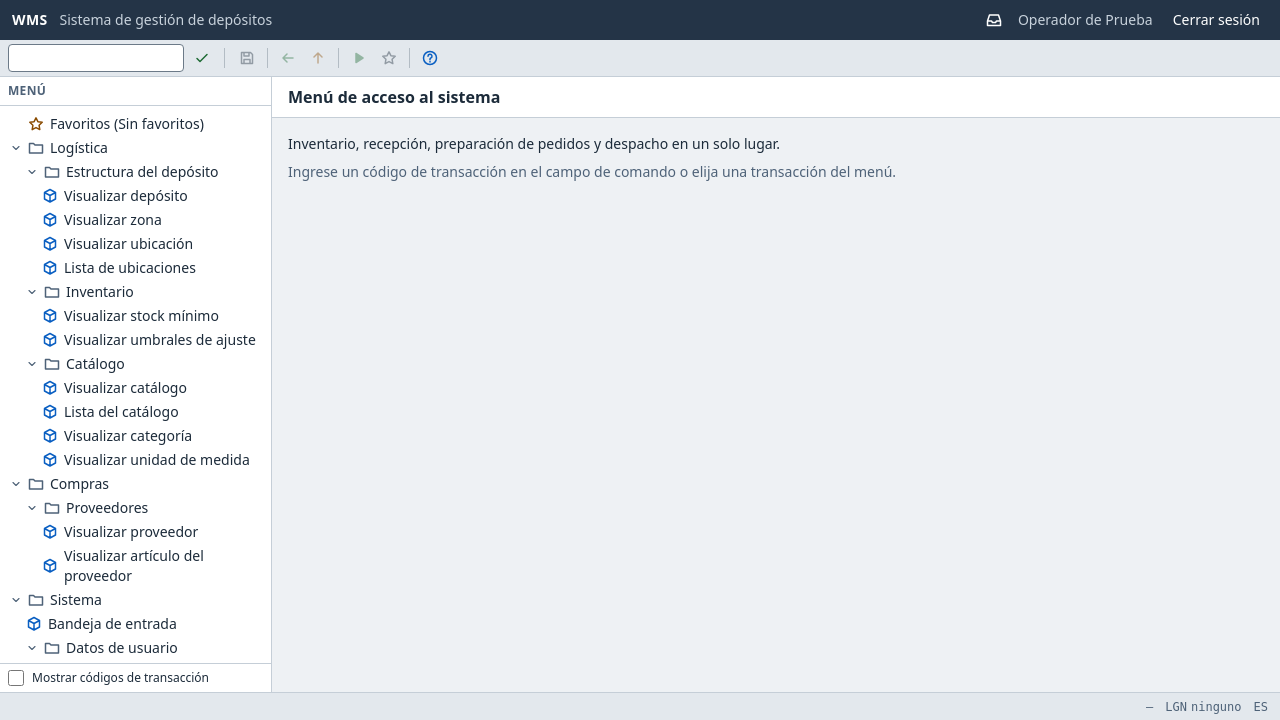
it: preferencias en el servidor (E2.21) › graba la opción de mostrar códigos en el usuario
Expected: the element named "Barra de herramientas estándar" is shown, [233,44,444,72]
Click the checkbox labelled "Mostrar códigos de transacción" at [16, 678], box [8,670,24,686]
(page scrolled)
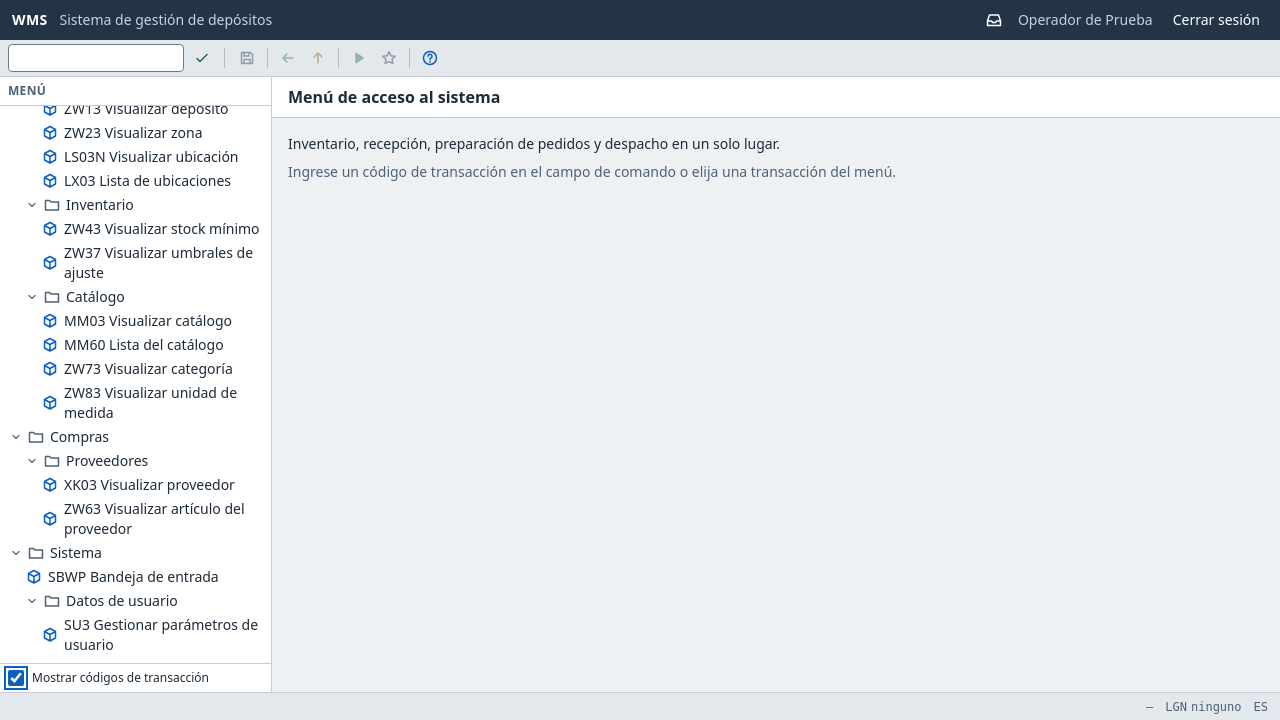
Expected: the list item "SU3 Gestionar parámetros de usuario" is shown, [38,613,265,657]
